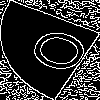O: (25, 25, 100, 81)
